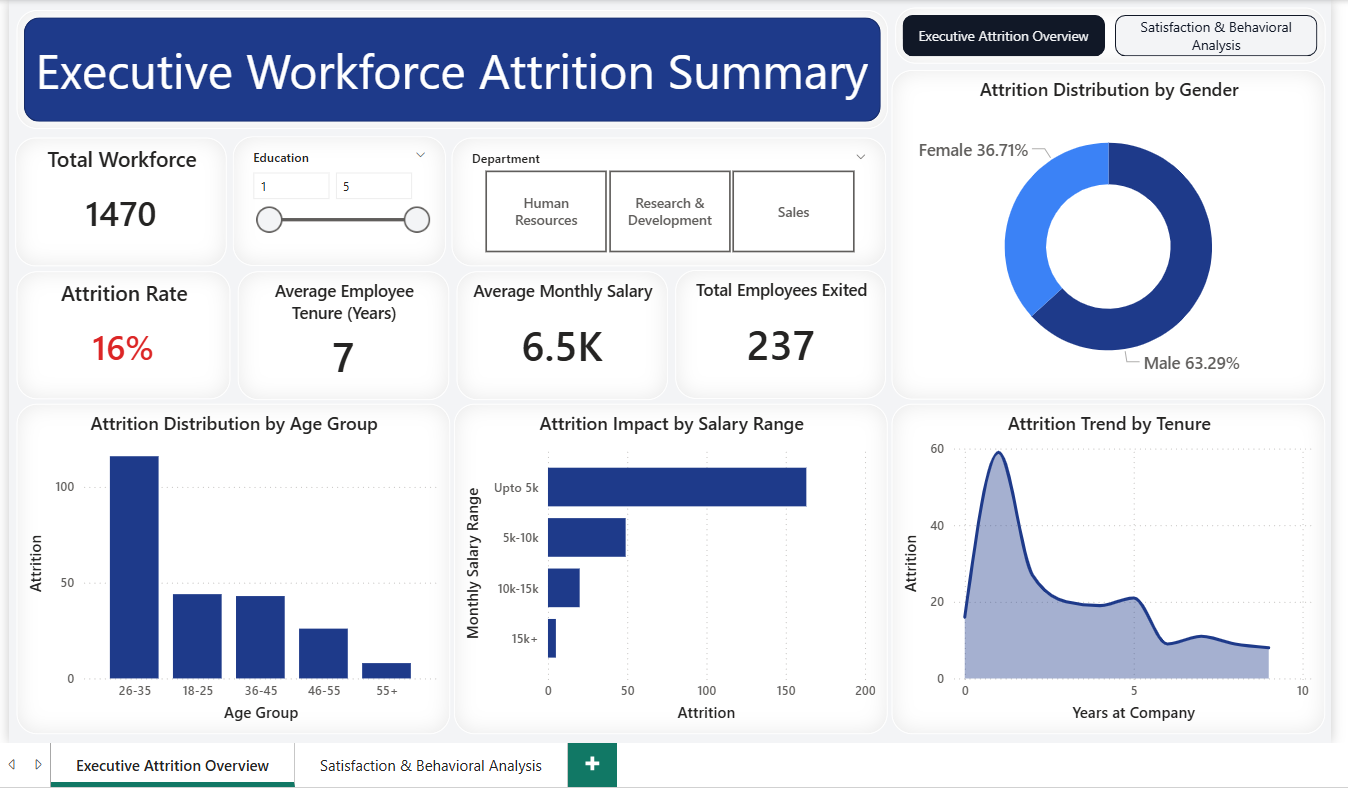

What the dashboard file says about the page in this screenshot:
{"tool":"powerbi","page":{"name":"Executive Attrition Overview","canvas":[1280,720],"ordinal":0},"visuals":[{"type":"pageNavigator","box":[858.3,7.3,416.4,54.5],"z":0,"group":"g2"},{"type":"slicer","fields":{"Values":["HR_Analytics.Education"]},"box":[217.3,132.1,206.2,125.9],"z":0,"group":"g3"},{"type":"card","title":"Average Monthly Salary","fields":{"Values":["HR_Analytics.Average Salary"]},"box":[433.5,262.3,204.6,124.7],"z":0,"group":"g4"},{"type":"group","id":"g1","title":"Bottom Charts","box":[7.3,390.8,1267.4,320],"z":0},{"type":"barChart","title":"Attrition Impact by Salary Range","fields":{"Y":["Sum(HR_Analytics.Attrition_Flag)"],"Category":["HR_Analytics.SalarySlab"]},"box":[431,390.8,420,320],"z":0,"group":"g1"},{"type":"shape","title":"Attrition Overview Shape","box":[7.3,9.7,843.7,115],"z":1000,"group":"g2"},{"type":"donutChart","title":"Attrition Distribution by Gender","fields":{"Category":["HR_Analytics.Gender"],"Y":["Sum(HR_Analytics.Attrition_Flag)"]},"box":[854.6,68,420,319.6],"z":1000},{"type":"slicer","fields":{"Values":["HR_Analytics.Department"]},"box":[429.3,133,420.9,125.2],"z":1000,"group":"g3"},{"type":"card","title":"Attrition Rate","fields":{"Values":["HR_Analytics.Attrition Rate (%)"]},"box":[7.7,263.1,206.9,123.9],"z":1000,"group":"g4"},{"type":"clusteredColumnChart","title":"Attrition Distribution by Age Group","fields":{"Category":["HR_Analytics.AgeGroup"],"Y":["Sum(HR_Analytics.Attrition_Flag)"]},"box":[7.3,390.8,420,320],"z":1000,"group":"g1"},{"type":"group","id":"g2","title":"Shape & Nevigator","box":[7.3,7.3,1267.4,117.4],"z":2000},{"type":"card","title":"Average Employee Tenure (Years)","fields":{"Values":["HR_Analytics.Average Tenure"]},"box":[221.8,262.3,204.6,124.7],"z":2000,"group":"g4"},{"type":"areaChart","title":"Attrition Trend by Tenure","fields":{"Category":["HR_Analytics.YearsAtCompany"],"Y":["Sum(HR_Analytics.Attrition_Flag)"]},"box":[854.6,390.8,420,320],"z":2000,"group":"g1"},{"type":"group","id":"g3","title":"Slicer","box":[217.3,132.1,632.9,126],"z":3000},{"type":"card","title":"Total Workforce","fields":{"Values":["HR_Analytics.Total Employee"]},"box":[6.1,133,205,125],"z":3000,"group":"g4"},{"type":"card","title":"Total Employees Exited","fields":{"Values":["Sum(HR_Analytics.Attrition_Flag)"]},"box":[645.2,261.8,204.4,125.2],"z":4000,"group":"g4"},{"type":"group","id":"g4","title":"Cards","box":[6.1,133,843.4,254],"z":4001}]}

Visuals, with their boxes on the page's 1280x720 design canvas (x1, y1, x2, y2). These are canvas units, not pixel positions in the 1348x788 screenshot, which may show the page scaled, cropped or inside an application window:
pageNavigator: crop(858, 7, 1275, 62)
slicer - HR_Analytics.Education: crop(217, 132, 424, 258)
"Average Monthly Salary" card: crop(434, 262, 638, 387)
"Bottom Charts" group: crop(7, 391, 1275, 711)
"Attrition Impact by Salary Range" barChart: crop(431, 391, 851, 711)
"Attrition Overview Shape" shape: crop(7, 10, 851, 125)
"Attrition Distribution by Gender" donutChart: crop(855, 68, 1275, 388)
slicer - HR_Analytics.Department: crop(429, 133, 850, 258)
"Attrition Rate" card: crop(8, 263, 215, 387)
"Attrition Distribution by Age Group" clusteredColumnChart: crop(7, 391, 427, 711)
"Shape & Nevigator" group: crop(7, 7, 1275, 125)
"Average Employee Tenure (Years)" card: crop(222, 262, 426, 387)
"Attrition Trend by Tenure" areaChart: crop(855, 391, 1275, 711)
"Slicer" group: crop(217, 132, 850, 258)
"Total Workforce" card: crop(6, 133, 211, 258)
"Total Employees Exited" card: crop(645, 262, 850, 387)
"Cards" group: crop(6, 133, 850, 387)
